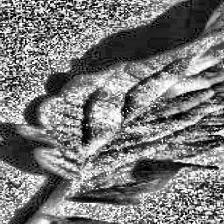leaf mold: (15, 0, 224, 195)
